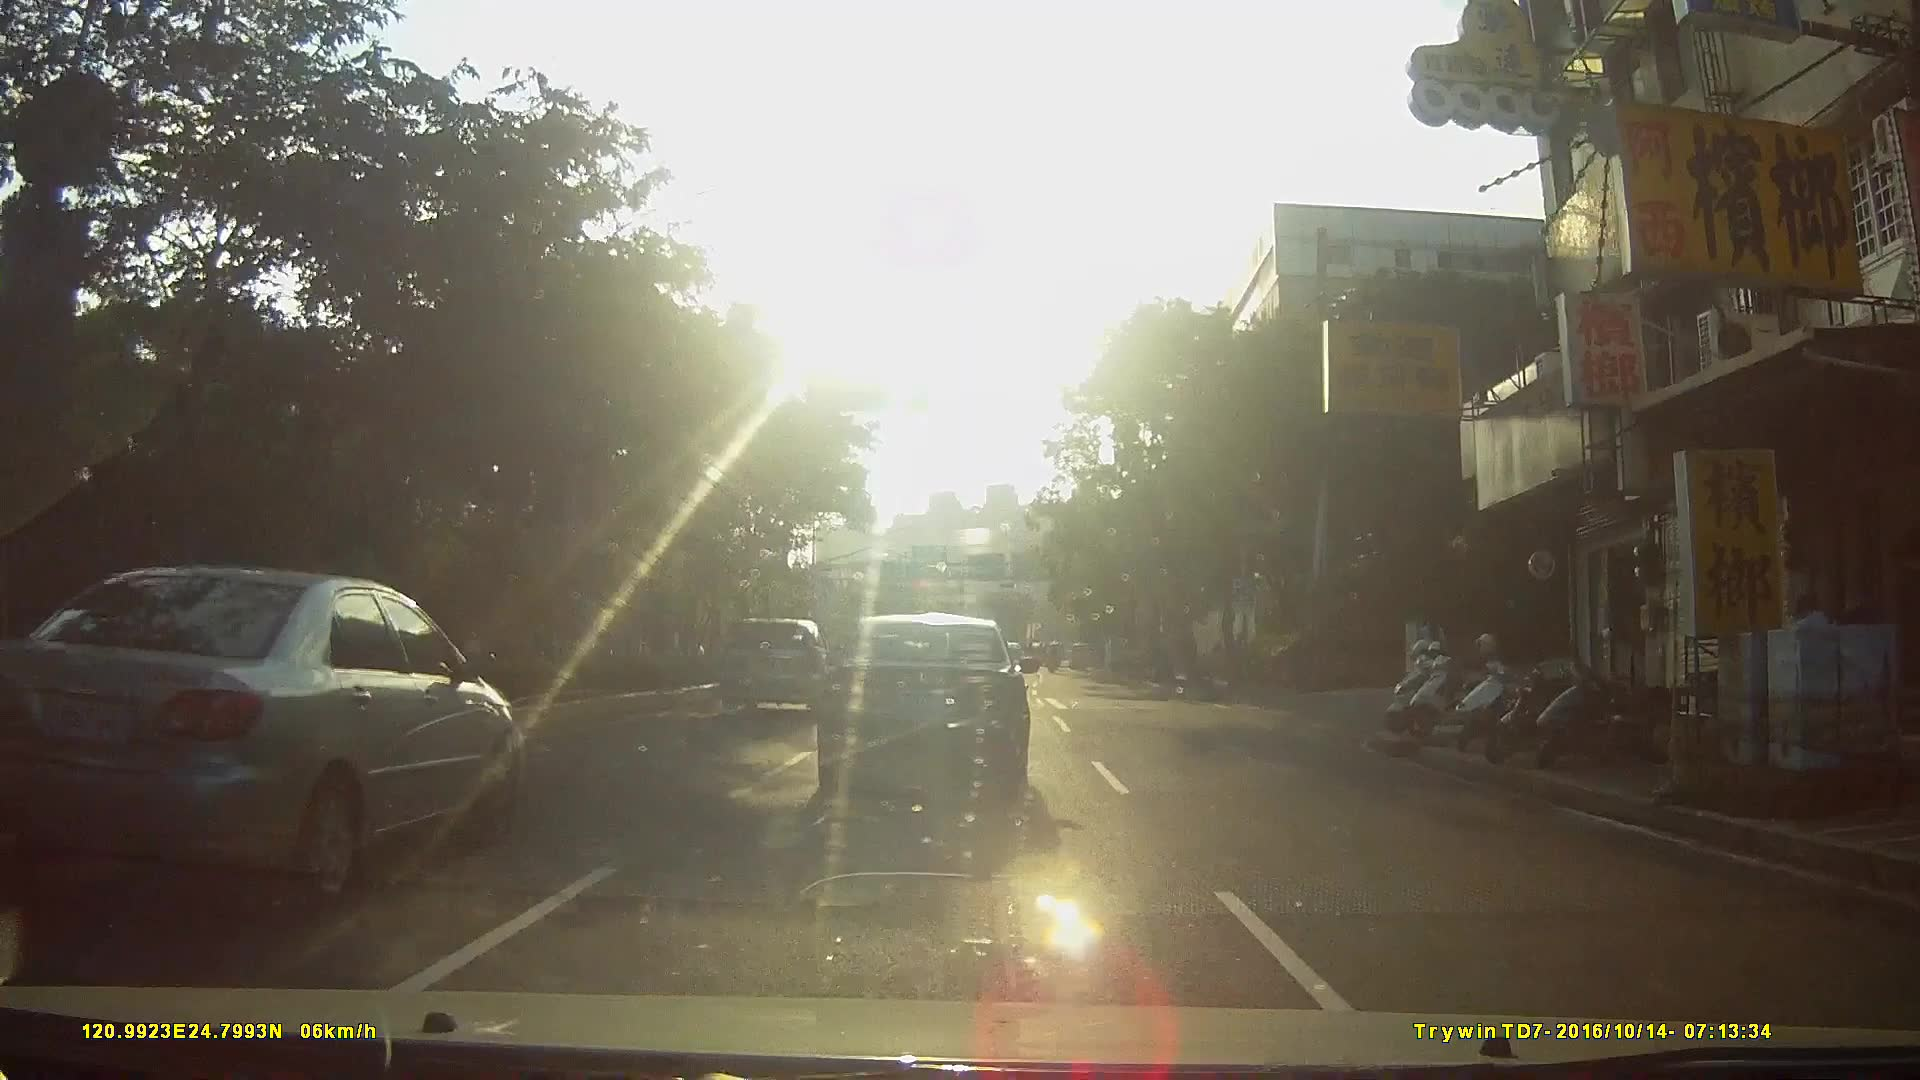pedestrian: (1781, 587, 1846, 746)
vehicle: (1, 565, 543, 899), (822, 609, 1050, 807), (723, 614, 838, 710), (1067, 639, 1102, 670)
